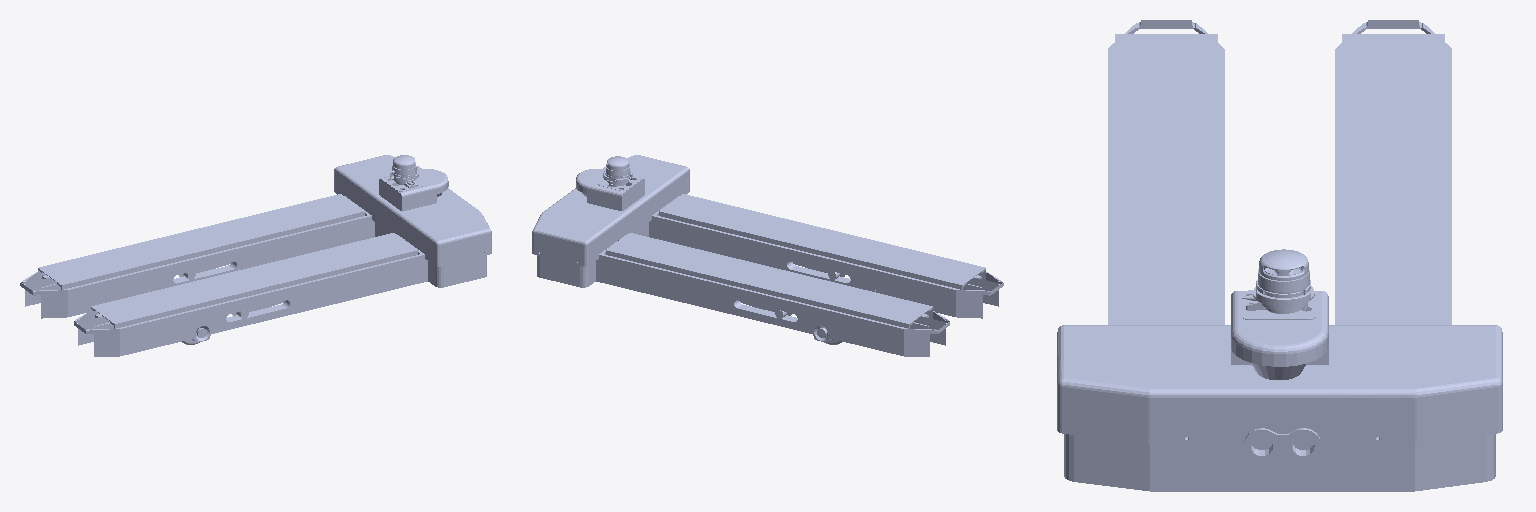
robot.urdf — agv_rio_final1:
<?xml version="1.0" encoding="utf-8"?>
<!-- This URDF was automatically created by SolidWorks to URDF Exporter! Originally created by [author] ([email redacted]) 
     Commit Version: 1.6.0-4-g7f85cfe  Build Version: 1.6.7995.38578
     For more information, please see http://wiki.ros.org/sw_urdf_exporter -->
<robot
  name="agv_rio_final1">
  <link
    name="base_link">
    <inertial>
      <origin
        xyz="-0.19632704114166 0.000274859310608777 0.0516734999792742"
        rpy="0 0 0" />
      <mass
        value="16.2189269106849" />
      <inertia
        ixx="0.0211655547080848"
        ixy="7.24635315936667E-06"
        ixz="0.00218360679784617"
        iyy="1.55552389426171"
        iyz="5.03726520112408E-07"
        izz="1.56006535654373" />
    </inertial>
    <visual>
      <origin
        xyz="0 0 0"
        rpy="0 0 0" />
      <geometry>
        <mesh
          filename="package://agv_rio_final1/meshes/base_link.STL" />
      </geometry>
      <material
        name="">
        <color
          rgba="0.792156862745098 0.819607843137255 0.933333333333333 1" />
      </material>
    </visual>
    <collision>
      <origin
        xyz="0 0 0"
        rpy="0 0 0" />
      <geometry>
        <mesh
          filename="package://agv_rio_final1/meshes/base_link.STL" />
      </geometry>
    </collision>
  </link>
  <link
    name="lidar_link">
    <inertial>
      <origin
        xyz="-1.52384837190933E-05 -0.000738135964715392 -0.0391037936787011"
        rpy="0 0 0" />
      <mass
        value="0.293916154164647" />
      <inertia
        ixx="0.000124611724189048"
        ixy="-6.31874523970552E-07"
        ixz="1.03428175818315E-06"
        iyy="0.000112429945625782"
        iyz="-3.45080374886285E-07"
        izz="0.000220404990973963" />
    </inertial>
    <visual>
      <origin
        xyz="0 0 0"
        rpy="0 0 0" />
      <geometry>
        <mesh
          filename="package://agv_rio_final1/meshes/lidar_link.STL" />
      </geometry>
      <material
        name="">
        <color
          rgba="0.792156862745098 0.819607843137255 0.933333333333333 1" />
      </material>
    </visual>
    <collision>
      <origin
        xyz="0 0 0"
        rpy="0 0 0" />
      <geometry>
        <mesh
          filename="package://agv_rio_final1/meshes/lidar_link.STL" />
      </geometry>
    </collision>
  </link>
  <joint
    name="lidar_joint"
    type="fixed">
    <origin
      xyz="0.37599032923391 0.00560454991403092 0.304592005075015"
      rpy="0 0 0" />
    <parent
      link="base_link" />
    <child
      link="lidar_link" />
    <axis
      xyz="0 0 0" />
    <limit
      lower="0"
      upper="0"
      effort="0"
      velocity="0" />
  </joint>
  <link
    name="right_main_wheel_link">
    <inertial>
      <origin
        xyz="-1.54765089632747E-13 0.0850000106615442 -1.20459198171829E-13"
        rpy="0 0 0" />
      <mass
        value="0.745812681232109" />
      <inertia
        ixx="0.00129469600230131"
        ixy="1.78659573938796E-15"
        ixz="6.96702056125284E-08"
        iyy="0.00139189819473726"
        iyz="1.54495829032648E-15"
        izz="0.00129471702318901" />
    </inertial>
    <visual>
      <origin
        xyz="0 0 0"
        rpy="0 0 0" />
      <geometry>
        <mesh
          filename="package://agv_rio_final1/meshes/right_main_wheel_link.STL" />
      </geometry>
      <material
        name="">
        <color
          rgba="0.792156862745098 0.819607843137255 0.933333333333333 1" />
      </material>
    </visual>
    <collision>
      <origin
        xyz="0 0 0"
        rpy="0 0 0" />
      <geometry>
        <mesh
          filename="package://agv_rio_final1/meshes/right_main_wheel_link.STL" />
      </geometry>
    </collision>
  </link>
  <joint
    name="right_main_wheel_joint"
    type="continuous">
    <origin
      xyz="-0.496441637210722 -0.250014571629858 0.00999999999638312"
      rpy="0 0 0" />
    <parent
      link="base_link" />
    <child
      link="right_main_wheel_link" />
    <axis
      xyz="0 -1 0" />
    <limit
      effort="0"
      velocity="10" />
  </joint>
  <link
    name="left_main_wheel_link">
    <inertial>
      <origin
        xyz="6.06847905260111E-13 0.0850000106603286 -3.7336800318144E-13"
        rpy="0 0 0" />
      <mass
        value="0.745812681232098" />
      <inertia
        ixx="0.0012946360965068"
        ixy="-5.01986749747638E-16"
        ixz="2.44138403576605E-09"
        iyy="0.00139189819473726"
        iyz="-2.21144916392145E-15"
        izz="0.00129477692898351" />
    </inertial>
    <visual>
      <origin
        xyz="0 0 0"
        rpy="0 0 0" />
      <geometry>
        <mesh
          filename="package://agv_rio_final1/meshes/left_main_wheel_link.STL" />
      </geometry>
      <material
        name="">
        <color
          rgba="0.792156862745098 0.819607843137255 0.933333333333333 1" />
      </material>
    </visual>
    <collision>
      <origin
        xyz="0 0 0"
        rpy="0 0 0" />
      <geometry>
        <mesh
          filename="package://agv_rio_final1/meshes/left_main_wheel_link.STL" />
      </geometry>
    </collision>
  </link>
  <joint
    name="left_main_wheel_joint"
    type="continuous">
    <origin
      xyz="-0.496441637210722 0.079985428370142 0.00999999999638312"
      rpy="0 0 0" />
    <parent
      link="base_link" />
    <child
      link="left_main_wheel_link" />
    <axis
      xyz="0 -1 0" />
    <limit
      effort="0"
      velocity="10" />
  </joint>
  <link
    name="left_vertical_axis_link">
    <inertial>
      <origin
        xyz="-0.0372299870327363 -0.00118785431913038 -0.0415589638714542"
        rpy="0 0 0" />
      <mass
        value="0.272328125328316" />
      <inertia
        ixx="0.000177726451943003"
        ixy="-7.92842657389801E-07"
        ixz="-1.30088227970452E-05"
        iyy="0.000246153410600547"
        iyz="-1.50645110009221E-07"
        izz="0.000174459880931324" />
    </inertial>
    <visual>
      <origin
        xyz="0 0 0"
        rpy="0 0 0" />
      <geometry>
        <mesh
          filename="package://agv_rio_final1/meshes/left_vertical_axis_link.STL" />
      </geometry>
      <material
        name="">
        <color
          rgba="0.752941176470588 0.752941176470588 0.752941176470588 1" />
      </material>
    </visual>
    <collision>
      <origin
        xyz="0 0 0"
        rpy="0 0 0" />
      <geometry>
        <mesh
          filename="package://agv_rio_final1/meshes/left_vertical_axis_link.STL" />
      </geometry>
    </collision>
  </link>
<joint name="left_vertical_axis_joint" type="continuous">
  <origin xyz="0.427058362788993 0.181485428370142 0.0490000000031094" rpy="0 0 0"/>
  <parent link="base_link"/>
  <child link="left_vertical_axis_link"/>
  <axis xyz="0 0 1"/>
  <limit effort="50" velocity="3.0"/>
  <dynamics damping="0.2" friction="0.0"/>
</joint>
  <link
    name="left_caster_wheel_link">
    <inertial>
      <origin
        xyz="-0.000528707276683082 0.0456462717685031 2.26734230279746E-08"
        rpy="0 0 0" />
      <mass
        value="0.212744608501194" />
      <inertia
        ixx="0.000121632381646114"
        ixy="-7.45751390190856E-07"
        ixz="-7.52535284756864E-11"
        iyy="0.000186014944986703"
        iyz="9.14942151999114E-11"
        izz="0.000121624015939315" />
    </inertial>
    <visual>
      <origin
        xyz="0 0 0"
        rpy="0 0 0" />
      <geometry>
        <mesh
          filename="package://agv_rio_final1/meshes/left_caster_wheel_link.STL" />
      </geometry>
      <material
        name="">
        <color
          rgba="0.752941176470588 0.752941176470588 0.752941176470588 1" />
      </material>
    </visual>
    <collision>
      <origin
        xyz="0 0 0"
        rpy="0 0 0" />
      <geometry>
        <mesh
          filename="package://agv_rio_final1/meshes/left_caster_wheel_link.STL" />
      </geometry>
    </collision>
  </link>
  <joint
    name="left_caster_wheel_joint"
    type="continuous">
    <origin
      xyz="-0.0394645294813227 -0.0464602078427481 -0.0460000000002857"
      rpy="0 0 0" />
    <parent
      link="left_vertical_axis_link" />
    <child
      link="left_caster_wheel_link" />
    <axis
      xyz="0.0115823351866676 -0.999932922506117 0" />
    <limit
      effort="0"
      velocity="10" />
  </joint>
  <link
    name="right_vertical_axis_link">
    <inertial>
      <origin
        xyz="-0.0372484187431409 -0.000197355433254276 -0.043558967370807"
        rpy="0 0 0" />
      <mass
        value="0.27232810848691" />
      <inertia
        ixx="0.000177732785976777"
        ixy="1.02732329323296E-06"
        ixz="-1.30083040668714E-05"
        iyy="0.00024614716456547"
        iyz="1.9532356912089E-07"
        izz="0.000174459758341894" />
    </inertial>
    <visual>
      <origin
        xyz="0 0 0"
        rpy="0 0 0" />
      <geometry>
        <mesh
          filename="package://agv_rio_final1/meshes/right_vertical_axis_link.STL" />
      </geometry>
      <material
        name="">
        <color
          rgba="0.792156862745098 0.819607843137255 0.933333333333333 1" />
      </material>
    </visual>
    <collision>
      <origin
        xyz="0 0 0"
        rpy="0 0 0" />
      <geometry>
        <mesh
          filename="package://agv_rio_final1/meshes/right_vertical_axis_link.STL" />
      </geometry>
    </collision>
  </link>
<joint name="right_vertical_axis_joint" type="continuous">
  <origin xyz="0.427058362788999 -0.181514571629864 0.0490000000030986" rpy="0 0 0"/>
  <parent link="base_link"/>
  <child link="right_vertical_axis_link"/>
  <axis xyz="0 0 1"/>
  <limit effort="50" velocity="3.0"/>
  <dynamics damping="0.2" friction="0.0"/>
</joint>
  <link
    name="right_caster_wheel_link">
    <inertial>
      <origin
        xyz="0.000676378335069283 0.0450460860929714 1.66906084508867E-08"
        rpy="0 0 0" />
      <mass
        value="0.217124452257966" />
      <inertia
        ixx="0.000121991191247687"
        ixy="9.71012430184508E-07"
        ixz="-1.458455393309E-10"
        iyy="0.000186643383873472"
        iyz="8.28214222028688E-11"
        izz="0.000121976675731269" />
    </inertial>
    <visual>
      <origin
        xyz="0 0 0"
        rpy="0 0 0" />
      <geometry>
        <mesh
          filename="package://agv_rio_final1/meshes/right_caster_wheel_link.STL" />
      </geometry>
      <material
        name="">
        <color
          rgba="0.752941176470588 0.752941176470588 0.752941176470588 1" />
      </material>
    </visual>
    <collision>
      <origin
        xyz="0 0 0"
        rpy="0 0 0" />
      <geometry>
        <mesh
          filename="package://agv_rio_final1/meshes/right_caster_wheel_link.STL" />
      </geometry>
    </collision>
  </link>
  <joint
    name="right_caster_wheel_joint"
    type="continuous">
    <origin
      xyz="-0.0406861124057696 -0.0453942756003061 -0.0480000000002838"
      rpy="0 0 0" />
    <parent
      link="right_vertical_axis_link" />
    <child
      link="right_caster_wheel_link" />
    <axis
      xyz="-0.0150134947978406 -0.999887291135334 0" />
    <limit
      effort="0"
      velocity="10" />
  </joint>
<gazebo>
  <plugin name="diff_drive_gz" filename="libgazebo_ros_diff_drive.so">
    <robotNamespace>/agv</robotNamespace>

    <!-- TÊN JOINT CHÍNH XÁC -->
    <leftJoint>left_main_wheel_joint</leftJoint>
    <rightJoint>right_main_wheel_joint</rightJoint>

    <!-- KÍCH THƯỚC XE -->
    <wheelSeparation>0.33</wheelSeparation>
    <wheelDiameter>0.65</wheelDiameter>  <!-- R = 0.05 m -->

    <!-- TOPIC / FRAME -->
    <commandTopic>cmd_vel</commandTopic>        <!-- => /agv/cmd_vel -->
    <odometryTopic>odom</odometryTopic>
    <odometryFrame>odom</odometryFrame>
    <robotBaseFrame>base_link</robotBaseFrame>

    <!-- TUỲ CHỌN HỮU ÍCH -->
    <publishTf>true</publishTf>
    <publishOdom>true</publishOdom>
    <publishWheelTF>true</publishWheelTF>
    <publishWheelJointState>true</publishWheelJointState>
    <updateRate>50</updateRate>
    <cmdTimeout>0.5</cmdTimeout>
    <wheelTorque>5.0</wheelTorque>
  </plugin>
</gazebo>


<transmission name="trans_left_main_wheel">
  <type>transmission_interface/SimpleTransmission</type>
  <joint name="left_main_wheel_joint">
    <hardwareInterface>hardware_interface/VelocityJointInterface</hardwareInterface>
  </joint>
  <actuator name="motor_left_rear">
    <hardwareInterface>hardware_interface/VelocityJointInterface</hardwareInterface>
    <mechanicalReduction>1</mechanicalReduction>
  </actuator>
</transmission>

<transmission name="trans_right_main_wheel">
  <type>transmission_interface/SimpleTransmission</type>
  <joint name="right_main_wheel_joint">
    <hardwareInterface>hardware_interface/VelocityJointInterface</hardwareInterface>
  </joint>
  <actuator name="motor_right_rear">
    <hardwareInterface>hardware_interface/VelocityJointInterface</hardwareInterface>
    <mechanicalReduction>1</mechanicalReduction>
  </actuator>
</transmission>
<!-- bánh sau: ma sát cao -->
<gazebo reference="left_main_wheel_link"><mu1>1.2</mu1><mu2>1.2</mu2></gazebo>
<gazebo reference="right_main_wheel_link"><mu1>1.2</mu1><mu2>1.2</mu2></gazebo>

<!-- caster: ma sát thấp một chút để xoay dễ -->
<gazebo reference="left_caster_wheel_link"><mu1>0.5</mu1><mu2>0.5</mu2></gazebo>
<gazebo reference="right_caster_wheel_link"><mu1>0.5</mu1><mu2>0.5</mu2></gazebo>

<gazebo reference="lidar_link">
  <sensor type="ray" name="lidar_sensor_360">
    <pose>0 0 0 0 0 0</pose>
    <update_rate>15</update_rate>
    <visualize>false</visualize>  <!-- VẼ TIA TRONG GAZEBO -->

    <ray>
      <scan>
        <horizontal>
          <samples>1440</samples>
          <resolution>1</resolution>
          <min_angle>-3.14159265</min_angle>
          <max_angle> 3.14159265</max_angle>
        </horizontal>
      </scan>
      <range>
        <min>0.12</min>
        <max>12.0</max>
        <resolution>0.01</resolution>
      </range>
      <noise>
        <type>gaussian</type>
        <mean>0.0</mean>
        <stddev>0.01</stddev>
      </noise>
    </ray>

    <!-- plugin ROS để xuất /agv/scan, giữ nguyên như bạn đang dùng -->
    <plugin name="gazebo_ros_laser" filename="libgazebo_ros_laser.so">
      <topicName>/agv/scan</topicName>
      <frameName>lidar_link</frameName>
    </plugin>
  </sensor>
</gazebo>


</robot>

--- What the picture shows (computed from the rendered views, not written in the file) ---
Views: 3 orthographic renders of the robot side by side, from view 1: azimuth 30°, elevation 25°; view 2: azimuth 150°, elevation 25°; view 3: azimuth 270°, elevation 25°.
Model agv_rio_final1 with 8 links and 7 joints (6 continuous, 1 fixed), rooted at base_link, posed all joints at 0.
Links seen in each view (by area): view 1: base_link, lidar_link; view 2: base_link, lidar_link; view 3: base_link, lidar_link.
Boxes of the visible links, x1=… form: base_link: x1=20, y1=155, x2=491, y2=356; lidar_link: x1=390, y1=155, x2=418, y2=188; base_link: x1=532, y1=155, x2=1003, y2=356; lidar_link: x1=603, y1=156, x2=632, y2=186; base_link: x1=1057, y1=20, x2=1502, y2=491; lidar_link: x1=1242, y1=249, x2=1314, y2=313.
Size in the robot's own frame: 1.43 by 0.647 by 0.357 metres.
Meshes: 8 distinct files referenced, 8 mesh visuals loaded (8 binary STL).
